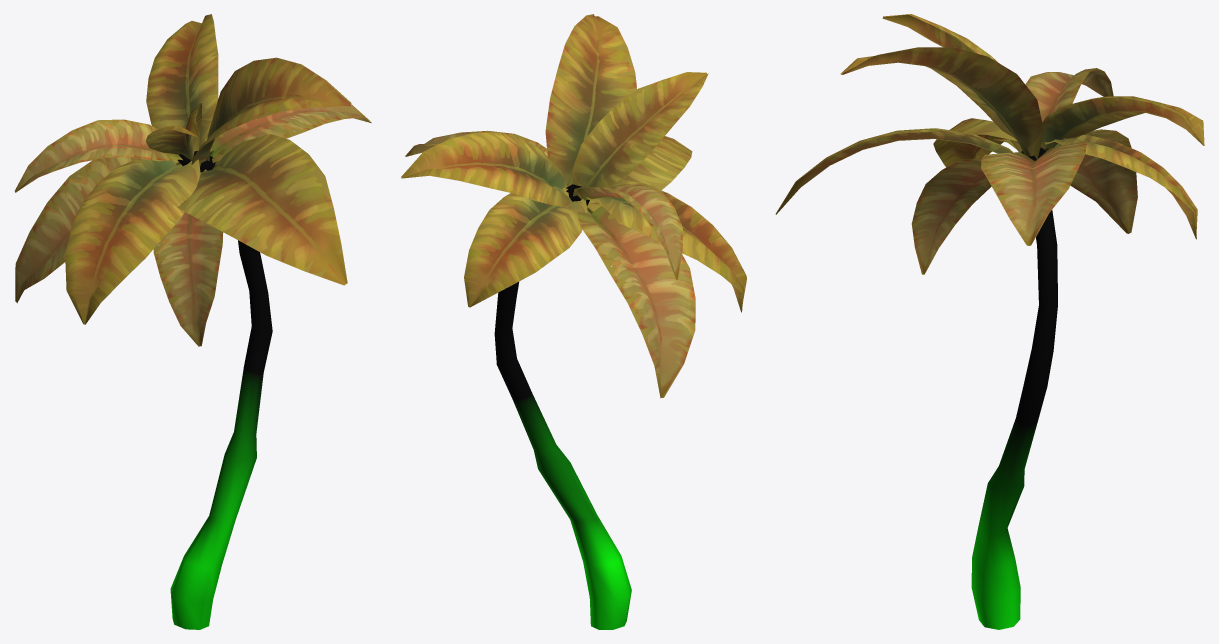
The model's file is SM_DesertPalmSapling02.fbx.
3 views of the same model, side by side, from view 1: azimuth 30°, elevation 25°; view 2: azimuth 150°, elevation 25°; view 3: azimuth 270°, elevation 25° (orthographic). The views are drawn at different scales.
Visible parts, largest first — view 1: SM_DesertPalmSapling02_LOD0; view 2: SM_DesertPalmSapling02_LOD0; view 3: SM_DesertPalmSapling02_LOD0.
Boxes of the visible parts, box(x1,y1,x2,y2) form: SM_DesertPalmSapling02_LOD0: box(14, 14, 371, 629); SM_DesertPalmSapling02_LOD0: box(401, 14, 746, 629); SM_DesertPalmSapling02_LOD0: box(775, 14, 1204, 629).
Size of the model in its own units: 334 by 560 by 356.
